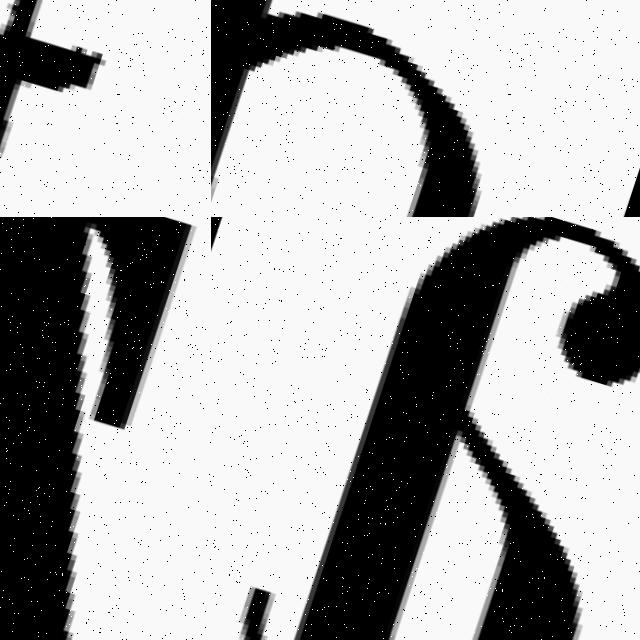A: (211, 217, 640, 640)
D: (211, 0, 592, 217)
T: (0, 0, 174, 217)
Z: (0, 217, 211, 640)
